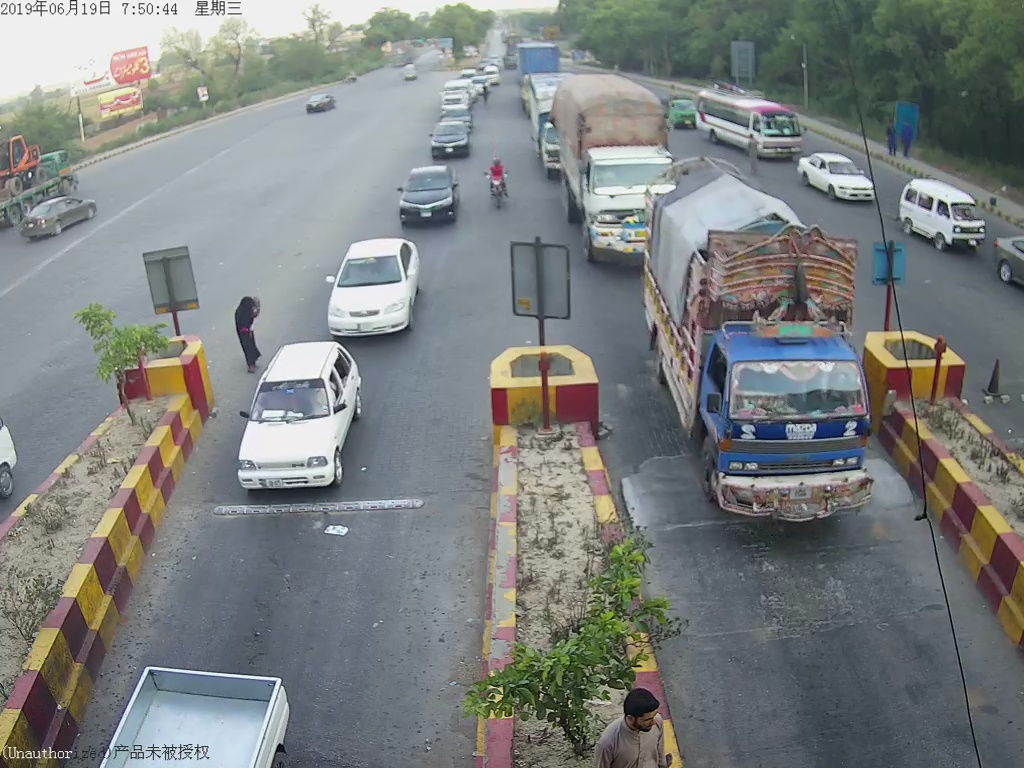Cat-1: (243, 334, 364, 499), (324, 226, 419, 339), (389, 156, 461, 233), (425, 119, 473, 163)
Cat-2: (659, 166, 887, 525)
Cat-4: (557, 81, 675, 263)
